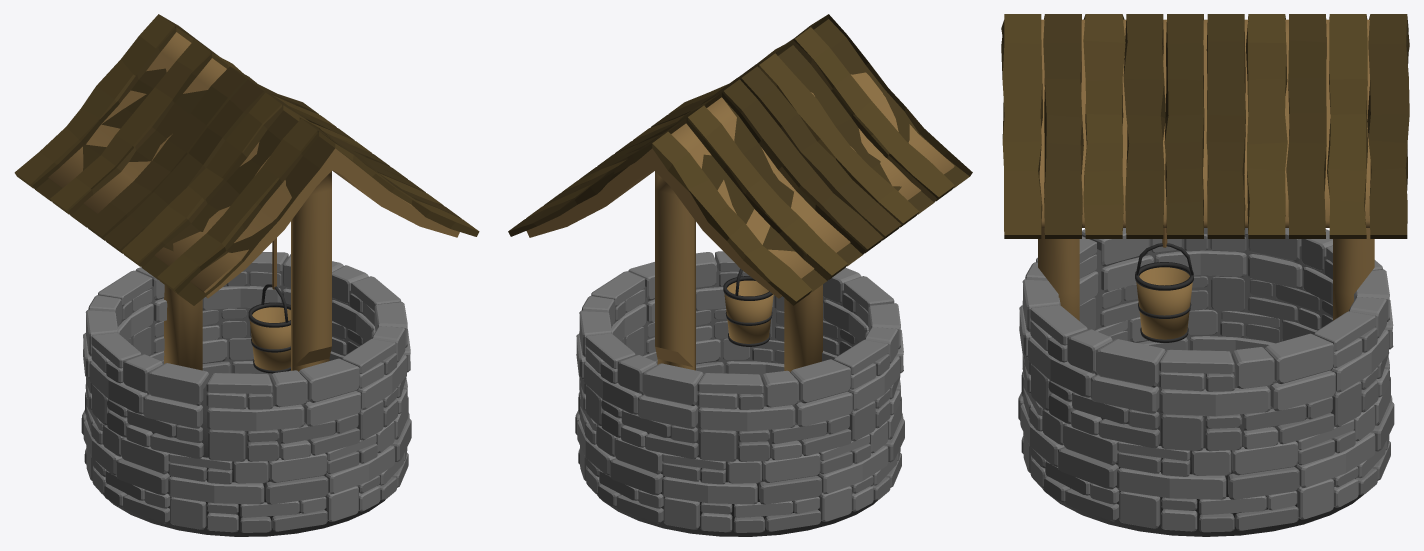
File: well.glb
The picture shows the model from 3 angles, left to right: view 1: azimuth 30°, elevation 25°; view 2: azimuth 150°, elevation 25°; view 3: azimuth 270°, elevation 25°; orthographic projection. The views are drawn at different scales.
Parts seen in each view (by area): view 1: Well; view 2: Well; view 3: Well.
Boxes of the visible parts, box(x1,y1,x2,y2) form: Well: box(14, 14, 479, 536); Well: box(508, 14, 972, 536); Well: box(1001, 14, 1409, 536).
Bounding box in the file's own units: 2.16 × 2.82 × 2.33.
